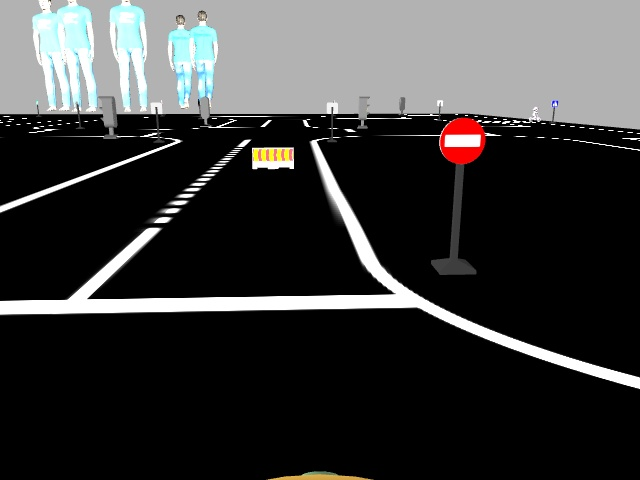ClosedRoadStand: (250, 147, 293, 169)
NoEntry: (438, 118, 485, 163)
